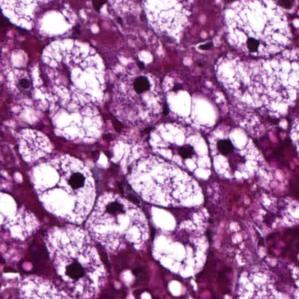ballooning: (147, 203, 214, 280), (29, 153, 98, 226), (148, 120, 214, 183), (209, 123, 266, 186)
